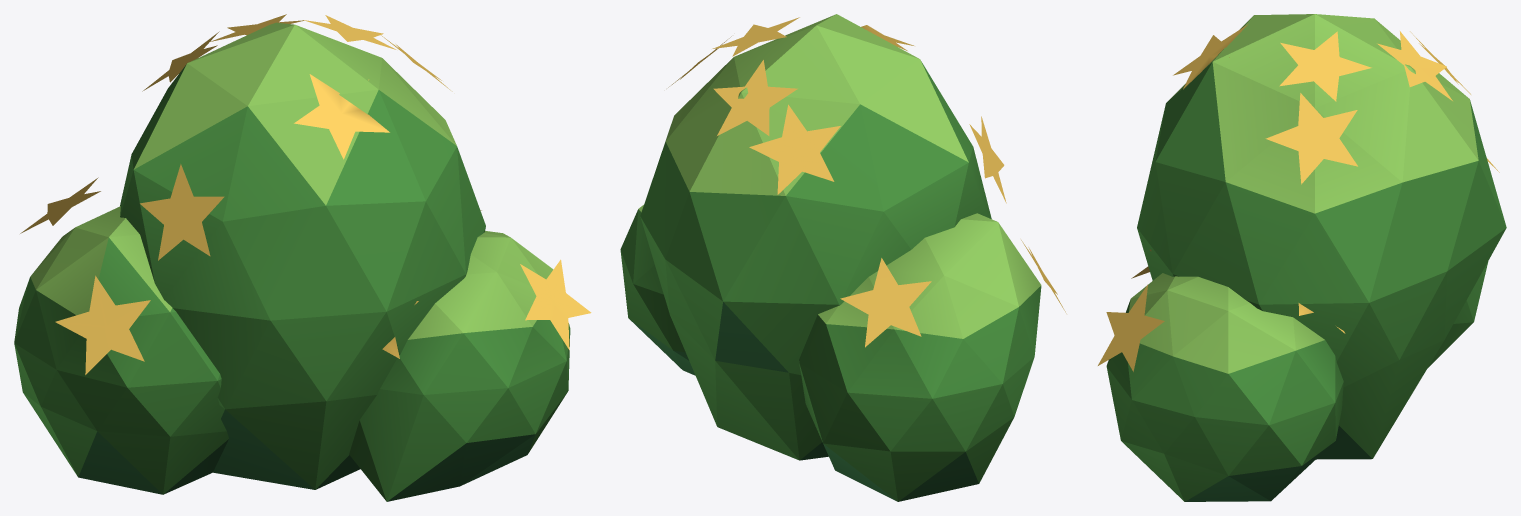
The model's file is shrub_flowering_b.glb.
3 renders of one model, left to right at view 1: azimuth 30°, elevation 25°; view 2: azimuth 150°, elevation 25°; view 3: azimuth 270°, elevation 25°, orthographic. The views are drawn at different scales.
Visible parts, largest first — view 1: Body, Flowers; view 2: Body, Flowers; view 3: Body, Flowers.
Part boxes in pixels (left/top/right/bottom): Body: left=14, top=22, right=570, bottom=501; Flowers: left=20, top=14, right=591, bottom=374; Body: left=620, top=14, right=1041, bottom=501; Flowers: left=668, top=17, right=1066, bottom=347; Body: left=1106, top=14, right=1506, bottom=501; Flowers: left=1098, top=24, right=1499, bottom=371.
Bounding box in the file's own units: 0.9949 × 0.8367 × 0.7582.
1 material, 1 textured.
